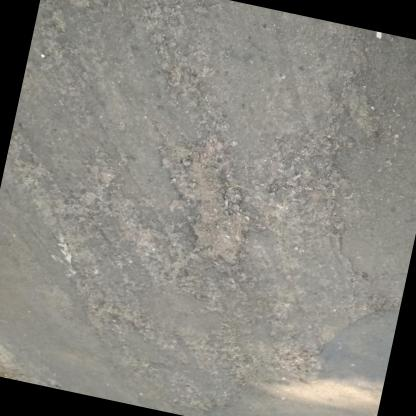pothole: (136, 131, 270, 273)
